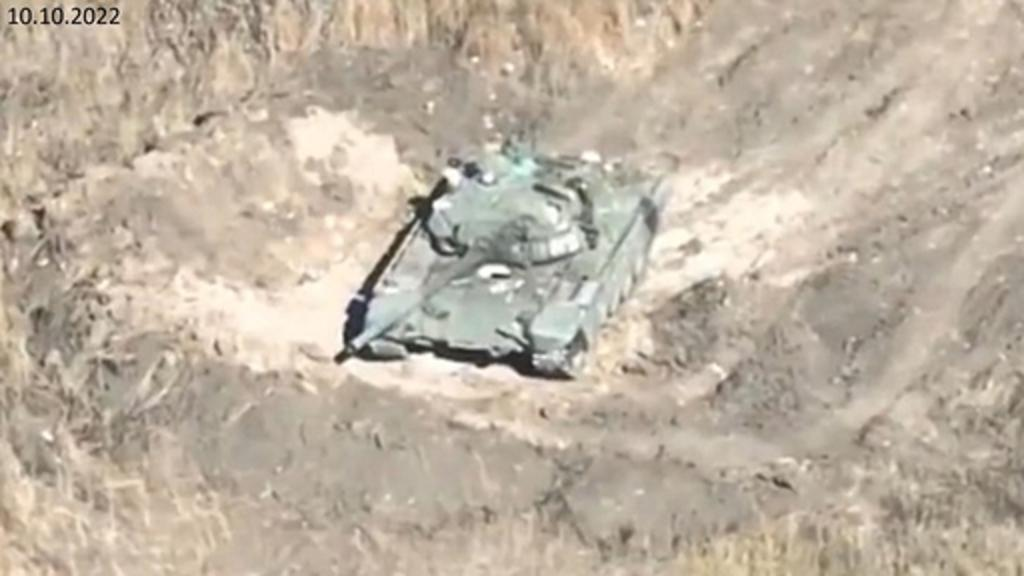TANK: (336, 144, 670, 384)
